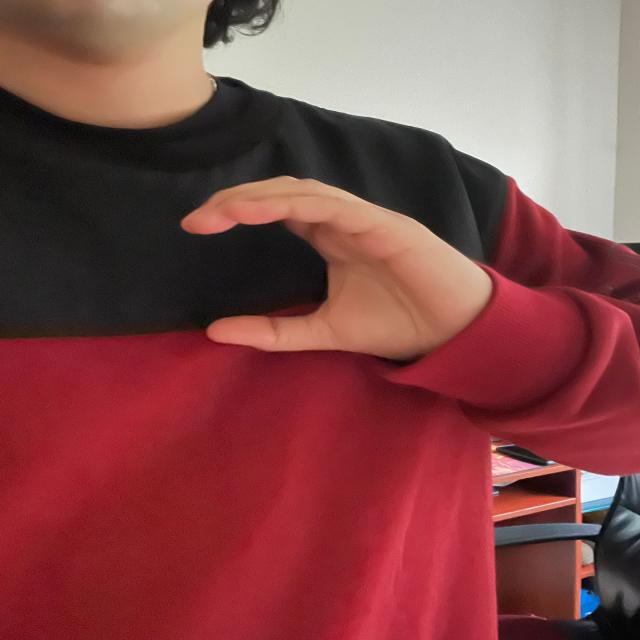C: (176, 170, 489, 385)
